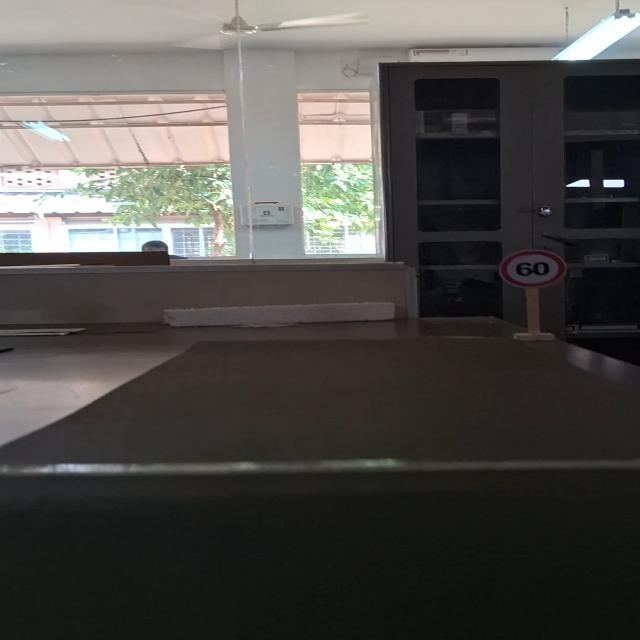Speed60: (497, 248, 569, 290)
